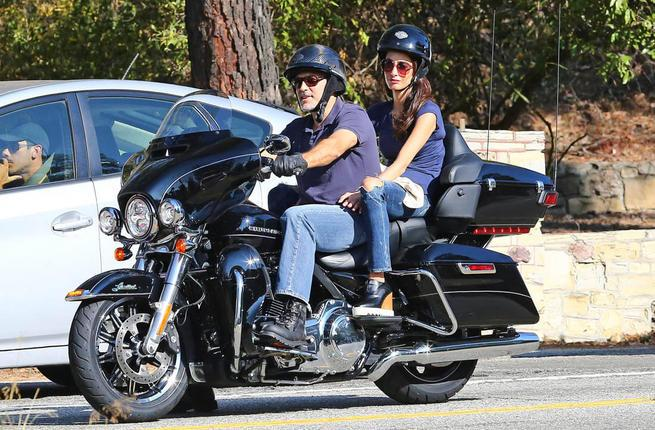helmet: (252, 28, 376, 269), (365, 19, 471, 234)
